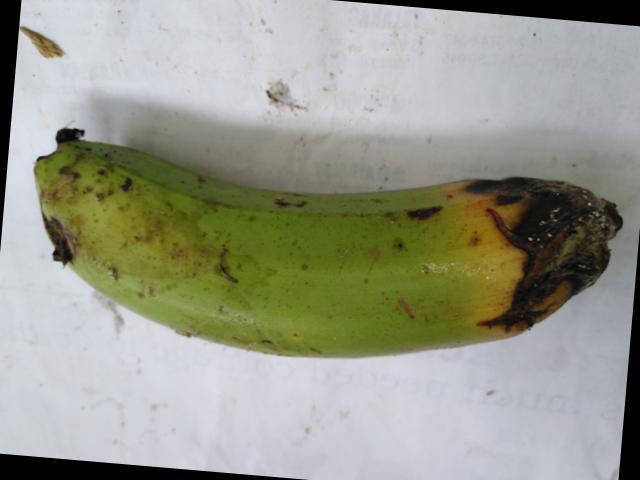rotten: (420, 153, 631, 372)
unripe: (38, 117, 449, 394)
